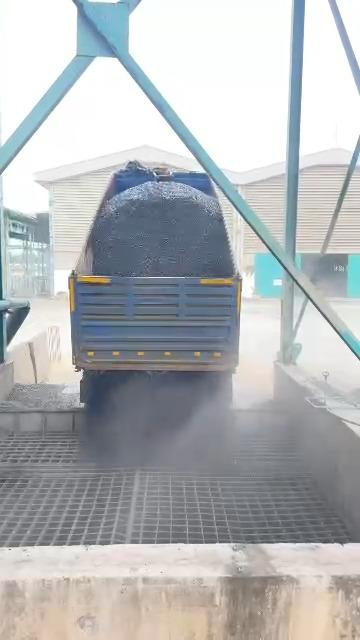gravel: (88, 182, 233, 277), (85, 373, 230, 461), (0, 383, 80, 409)
